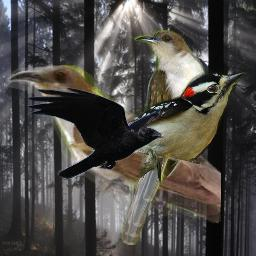Crow: (26, 86, 166, 179)
Cuckoo: (4, 65, 221, 225), (121, 30, 208, 245)
Woodpecker: (68, 66, 247, 168)
